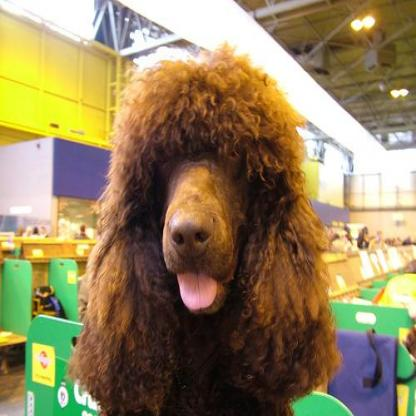Irish_water_spaniel: (66, 38, 342, 414)
